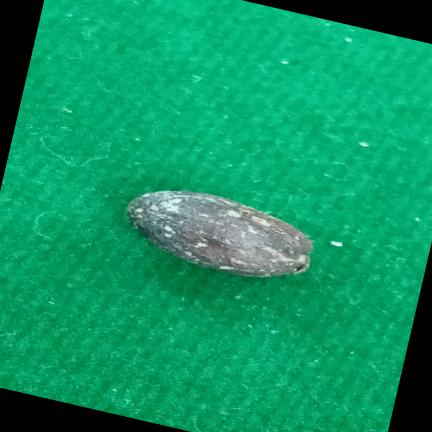husk: (127, 191, 313, 278)
